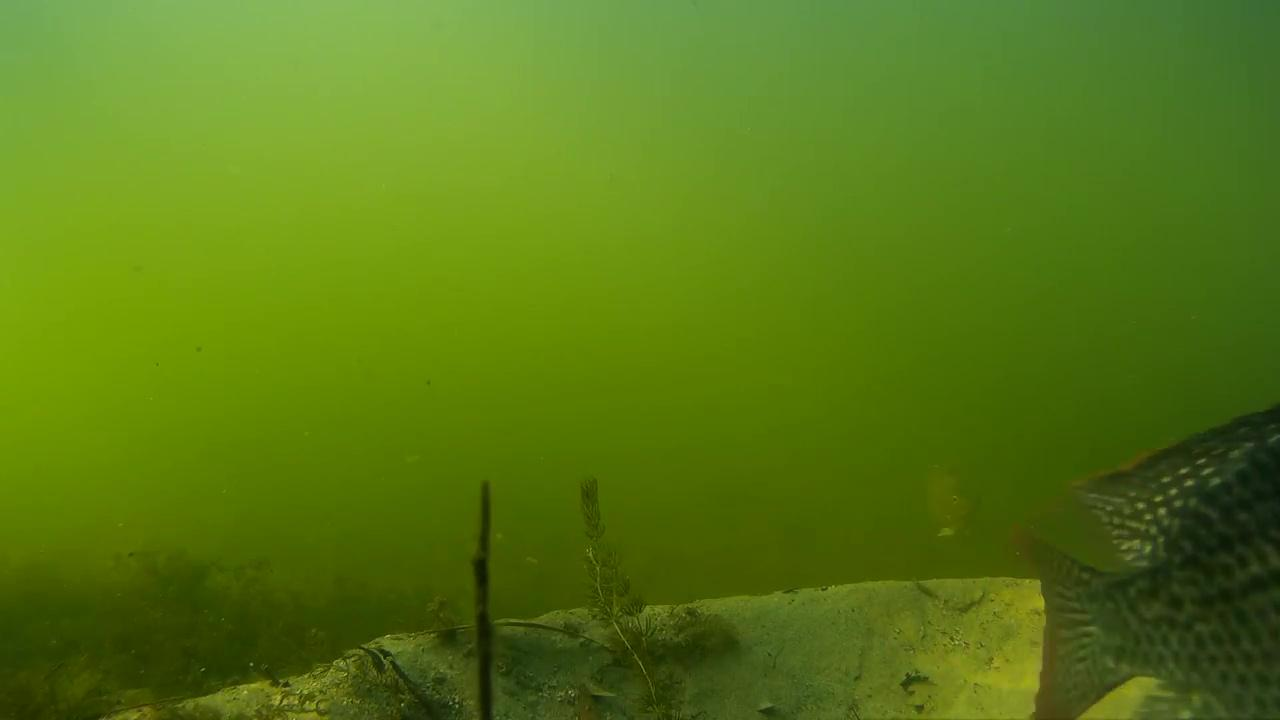Tilapia: (1005, 404, 1280, 720), (901, 456, 986, 546)
